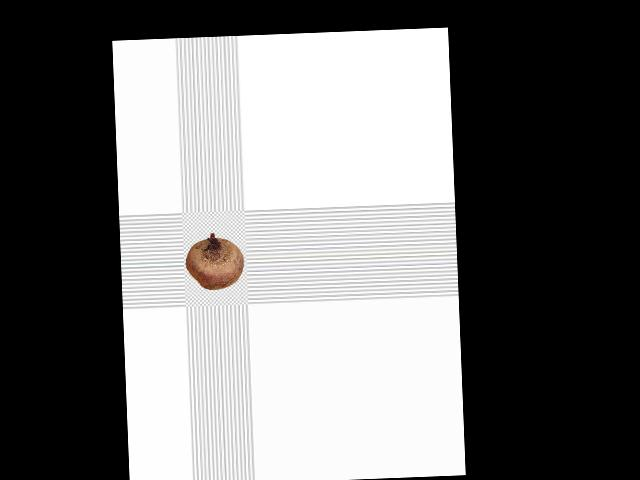beet: (184, 231, 244, 290)
